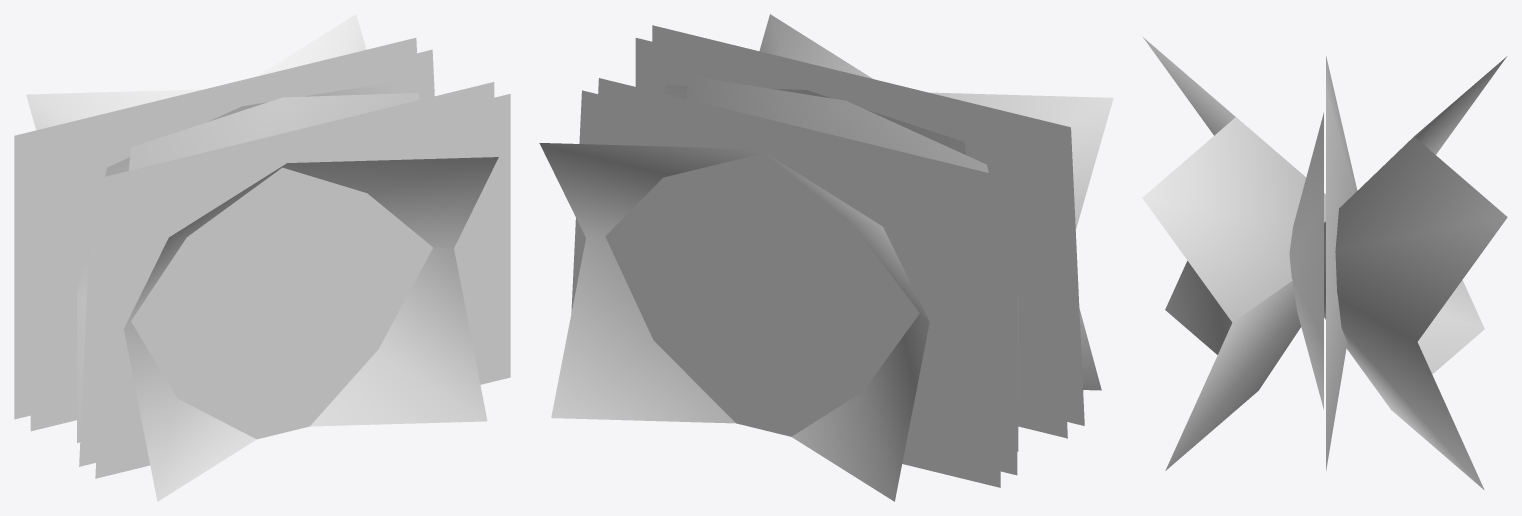
File: pir_m_prp_cav_webWall.fbx
3 views of the same model, side by side, from view 1: azimuth 30°, elevation 25°; view 2: azimuth 150°, elevation 25°; view 3: azimuth 270°, elevation 25° (orthographic). The views are drawn at different scales.
Parts seen in each view (by area): view 1: pPlane11, pPlane12.001, pPlane10.001, pPlane10, pPlane11.001, pPlane3, pPlane12, pPlane3.001; view 2: pPlane11.001, pPlane12, pPlane10, pPlane11, pPlane10.001, pPlane3.001, pPlane12.001, pPlane3; view 3: pPlane12, pPlane12.001, pPlane3, pPlane3.001.
Part boxes in pixels (bbox=[...]): pPlane11: bbox=[95, 93, 510, 478]; pPlane12.001: bbox=[124, 157, 498, 501]; pPlane10.001: bbox=[30, 49, 434, 431]; pPlane10: bbox=[79, 82, 494, 466]; pPlane11.001: bbox=[14, 38, 416, 419]; pPlane3: bbox=[128, 93, 419, 170]; pPlane12: bbox=[26, 14, 366, 130]; pPlane3.001: bbox=[77, 82, 394, 442]; pPlane11.001: bbox=[571, 90, 1000, 487]; pPlane12: bbox=[539, 143, 929, 501]; pPlane10: bbox=[635, 38, 1067, 438]; pPlane11: bbox=[652, 25, 1084, 425]; pPlane10.001: bbox=[598, 78, 1017, 475]; pPlane3.001: bbox=[686, 75, 1018, 451]; pPlane12.001: bbox=[759, 14, 1113, 390]; pPlane3: bbox=[664, 85, 965, 154]; pPlane12: bbox=[1324, 56, 1507, 489]; pPlane12.001: bbox=[1142, 37, 1325, 470]; pPlane3: bbox=[1289, 112, 1323, 409]; pPlane3.001: bbox=[1326, 56, 1357, 470].
Bounding box in the file's own units: 9681 × 6609 × 7358.
1 material, 1 textured.
